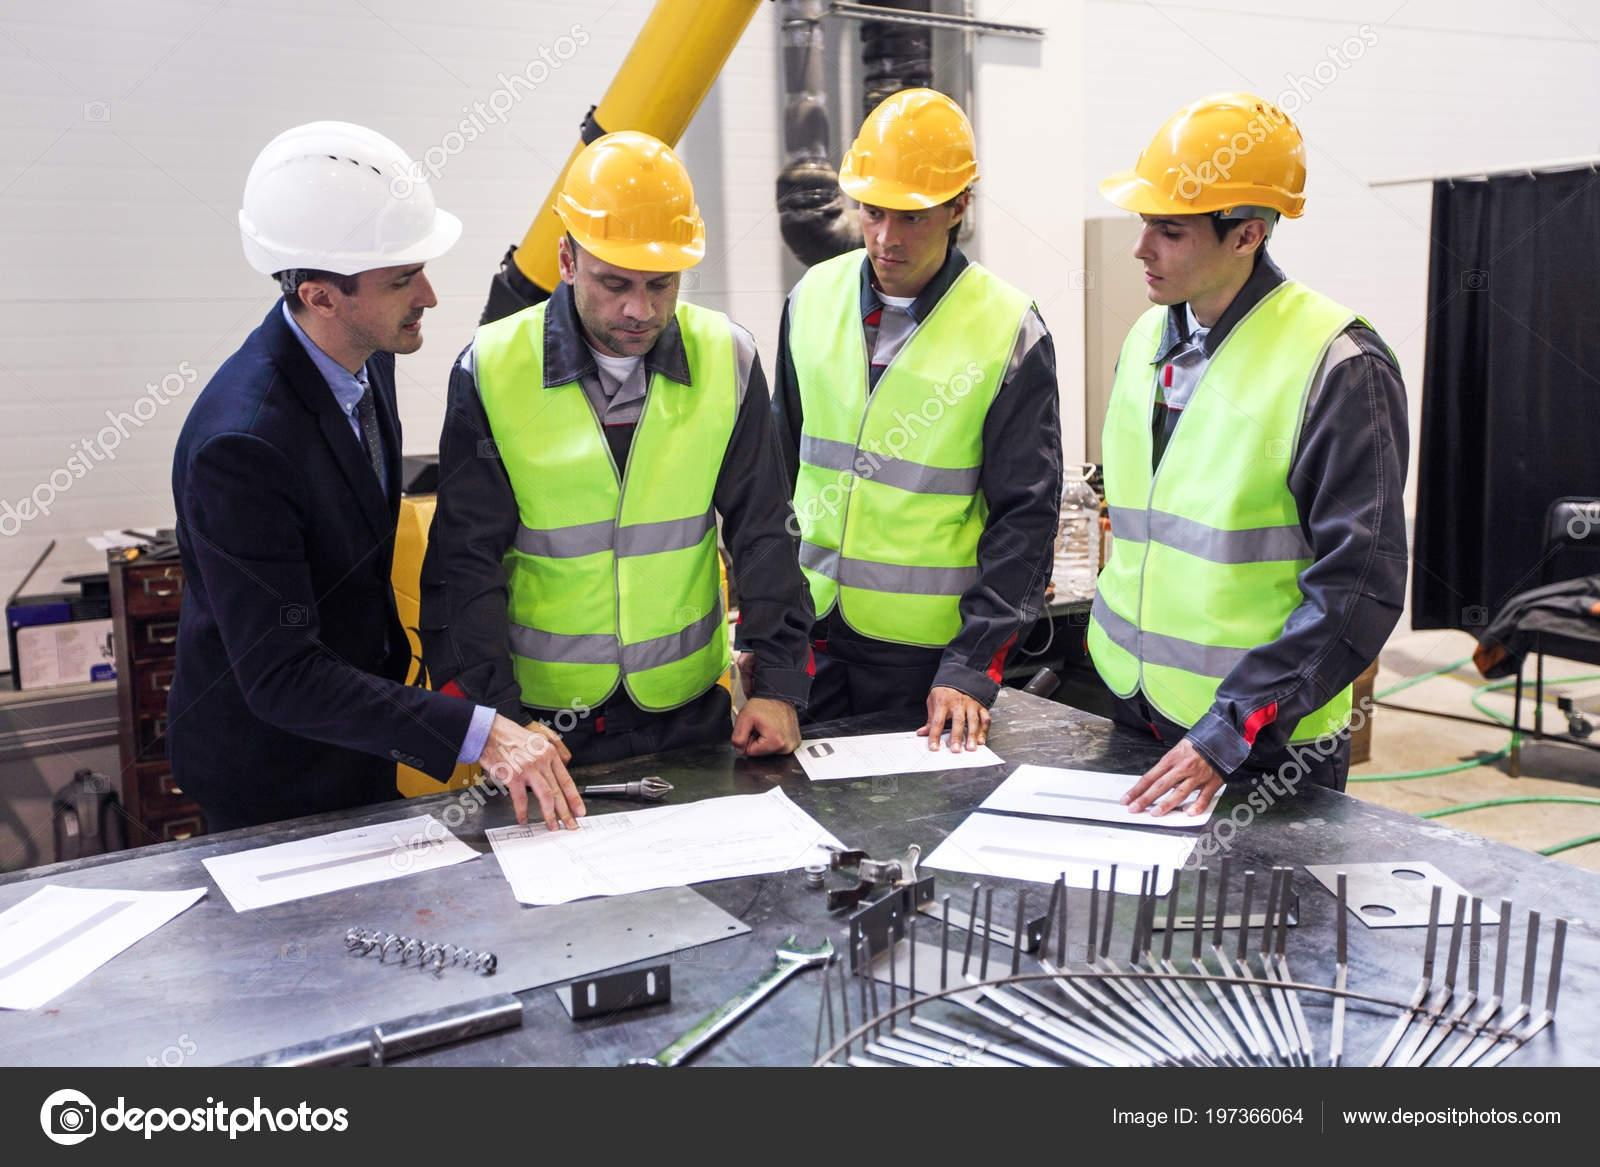helmet: (232, 114, 470, 285), (1083, 93, 1309, 227), (547, 130, 714, 282), (827, 83, 988, 221)
no_wear: (169, 353, 406, 785)
wear: (435, 313, 755, 748), (1109, 301, 1365, 718), (774, 267, 1042, 654)
